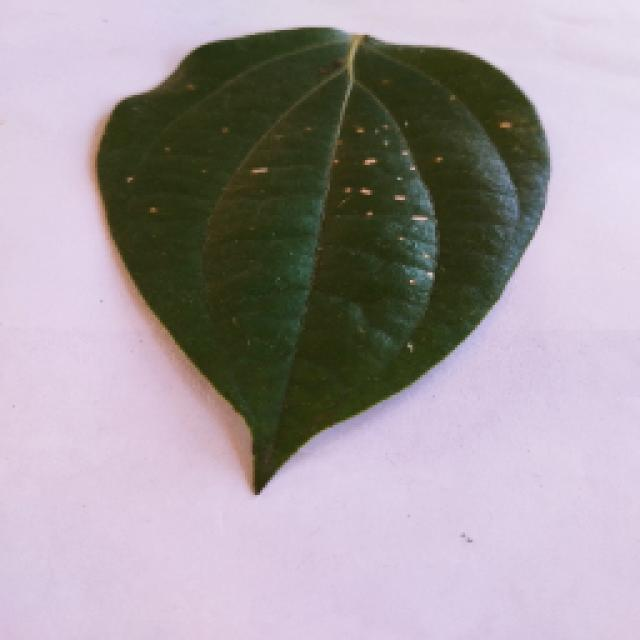pollu-disease: (90, 25, 548, 493)
